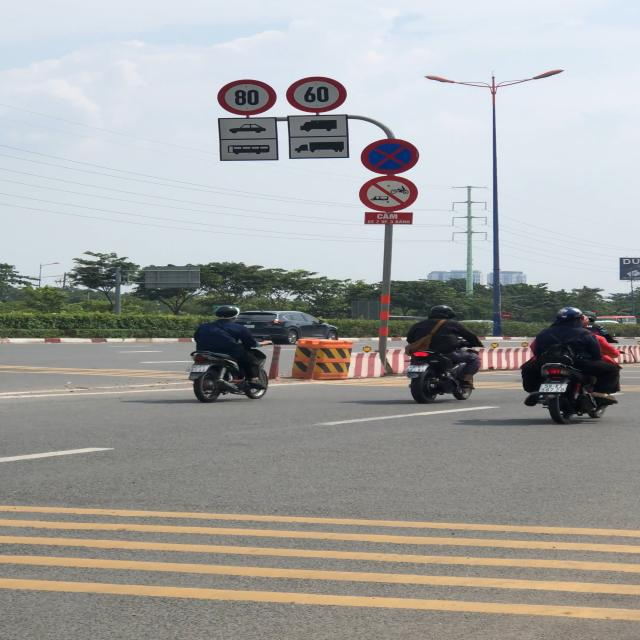Bien bao cam dung xe va do xe: (358, 136, 419, 178)
Bien bao toc do toi da cho phep: (283, 75, 348, 114), (215, 79, 278, 116)
